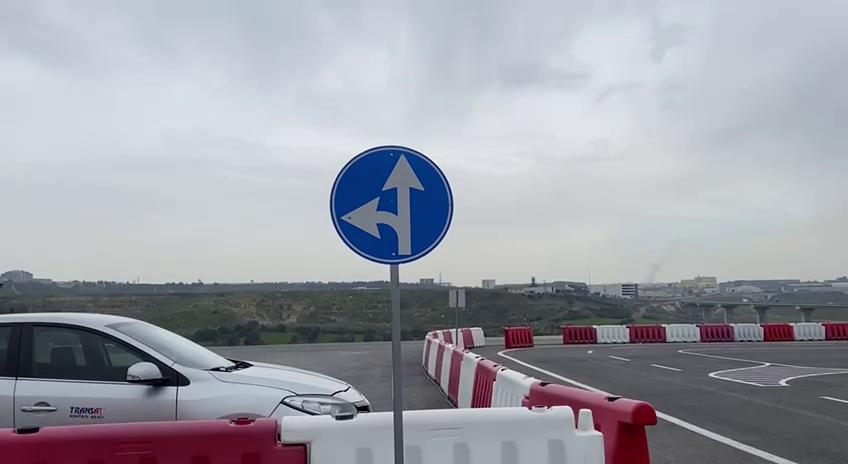forwardAndLeft: (327, 141, 456, 268)
